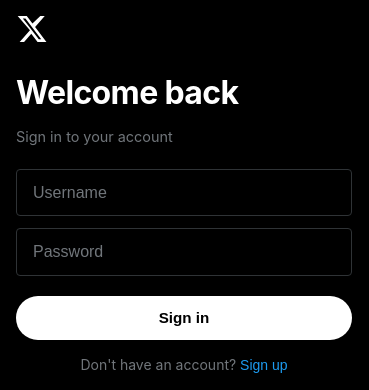
it: AuthPage › Login mode (default) › disables the submit button while loading
Click the button "Sign in".
click(184, 318)  # box [16, 296, 352, 340]
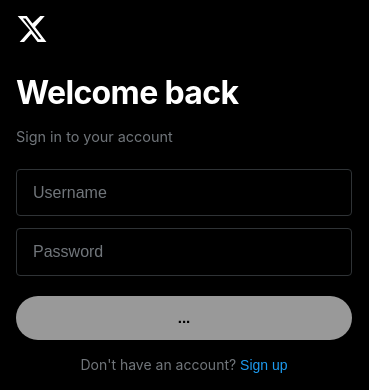
Result: the button "..." is disabled at [16, 296, 352, 340]
